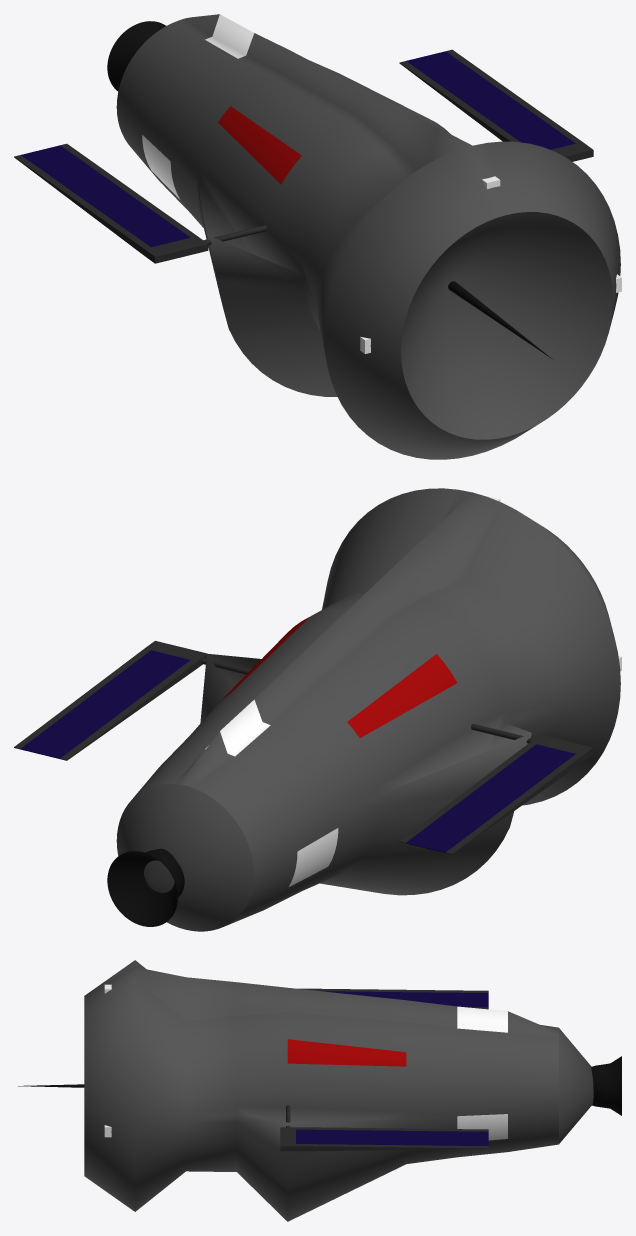
The model's file is NPC Alpha Probe.FBX.
The picture shows the model from 3 angles, top to bottom: view 1: azimuth 30°, elevation 25°; view 2: azimuth 150°, elevation 25°; view 3: azimuth 270°, elevation 25°; orthographic projection. The views are drawn at different scales.
Parts seen in each view (by area): view 1: Main Hull, EngineUnit2, EngineUnit1, MainThruster, Aerial; view 2: Main Hull, EngineUnit2, EngineUnit1, MainThruster, Pylon; view 3: Main Hull, EngineUnit1, EngineUnit2, MainThruster.
Part boxes in pixels (x1=…): Main Hull: x1=116, y1=14, x2=620, y2=459; EngineUnit2: x1=14, y1=143, x2=208, y2=263; EngineUnit1: x1=399, y1=49, x2=593, y2=161; MainThruster: x1=107, y1=21, x2=165, y2=91; Aerial: x1=448, y1=281, x2=553, y2=359; Main Hull: x1=116, y1=488, x2=620, y2=931; EngineUnit2: x1=399, y1=735, x2=593, y2=854; EngineUnit1: x1=14, y1=640, x2=206, y2=760; MainThruster: x1=107, y1=848, x2=184, y2=926; Pylon: x1=201, y1=658, x2=534, y2=743; Main Hull: x1=84, y1=960, x2=593, y2=1221; EngineUnit1: x1=280, y1=1127, x2=488, y2=1151; EngineUnit2: x1=298, y1=988, x2=488, y2=1009; MainThruster: x1=591, y1=1056, x2=621, y2=1115.
Size of the model in its own units: 8.27 by 5.82 by 13.46.
